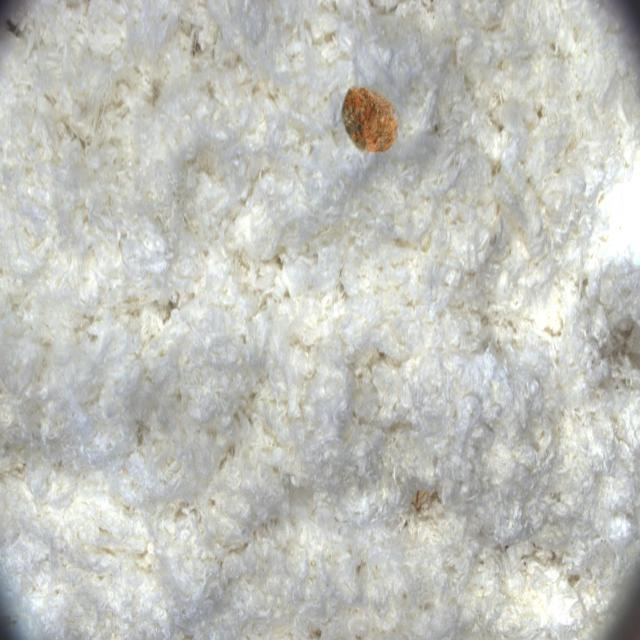dust: (317, 56, 432, 187)
